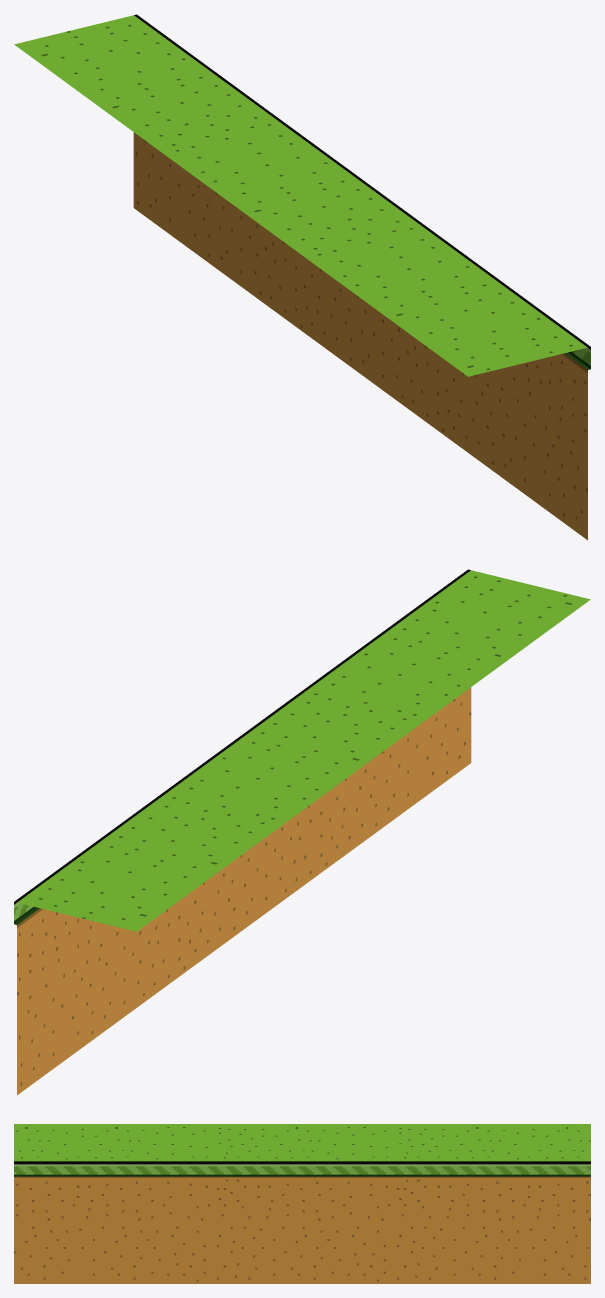
The model's file is ground.fbx.
3 renders of one model, top to bottom at view 1: azimuth 30°, elevation 25°; view 2: azimuth 150°, elevation 25°; view 3: azimuth 270°, elevation 25°, orthographic. The views are drawn at different scales.
Parts seen in each view (by area): view 1: ObjObject; view 2: ObjObject; view 3: ObjObject.
Boxes of the visible parts, box(x1,y1,x2,y2) form: ObjObject: box(14, 14, 590, 540); ObjObject: box(14, 569, 590, 1095); ObjObject: box(14, 1124, 590, 1283).
Size of the model in its own units: 400 by 600 by 2560.
Materials: 1 (1 with a texture image).
